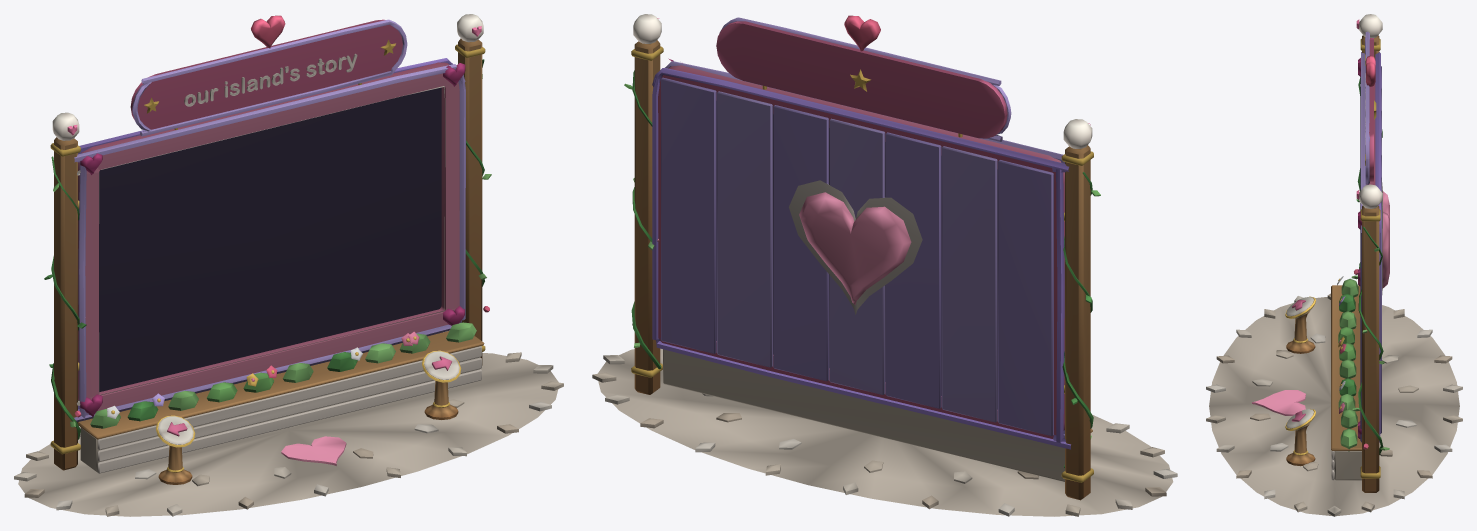
The model's file is prp_story_wall_lite.glb.
3 renders of one model, left to right at view 1: azimuth 30°, elevation 25°; view 2: azimuth 150°, elevation 25°; view 3: azimuth 270°, elevation 25°, orthographic. The views are drawn at different scales.
Visible parts, largest first — view 1: SM_props_prop_vc_x0_z0.001, SM_prp_story_wall_lite_screen, SM_props_prop_vc_gloss_x0_z0.001, SM_props_prop_vc_metal_x0_z0.001, SM_prp_story_wall_lite_prev, SM_prp_story_wall_lite_next; view 2: SM_props_prop_vc_x0_z0.001, SM_props_prop_vc_gloss_x0_z0.001, SM_prp_story_wall_lite_screen, SM_props_prop_vc_metal_x0_z0.001; view 3: SM_props_prop_vc_x0_z0.001, SM_props_prop_vc_gloss_x0_z0.001, SM_props_prop_vc_metal_x0_z0.001.
Part boxes in pixels (x1,y1,x2,y2): SM_props_prop_vc_x0_z0.001: [14, 19, 563, 516]; SM_prp_story_wall_lite_screen: [99, 87, 441, 391]; SM_props_prop_vc_gloss_x0_z0.001: [52, 14, 483, 465]; SM_props_prop_vc_metal_x0_z0.001: [50, 39, 485, 472]; SM_prp_story_wall_lite_prev: [158, 416, 193, 444]; SM_prp_story_wall_lite_next: [424, 351, 459, 380]; SM_props_prop_vc_x0_z0.001: [592, 17, 1177, 516]; SM_props_prop_vc_gloss_x0_z0.001: [633, 14, 1092, 304]; SM_prp_story_wall_lite_screen: [716, 101, 997, 409]; SM_props_prop_vc_metal_x0_z0.001: [631, 46, 1093, 482]; SM_props_prop_vc_x0_z0.001: [1206, 31, 1462, 516]; SM_props_prop_vc_gloss_x0_z0.001: [1252, 14, 1389, 438]; SM_props_prop_vc_metal_x0_z0.001: [1293, 38, 1380, 478].
Size of the model in its own units: 10.94 by 7.99 by 5.32.
